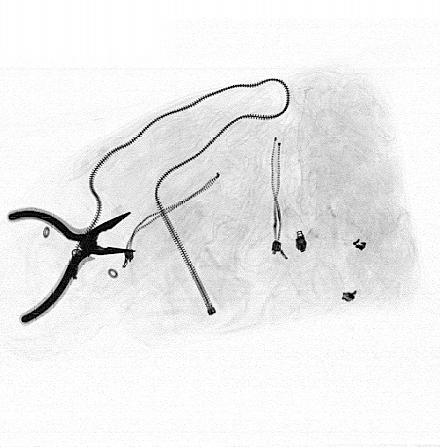Pliers: (6, 209, 142, 323)
